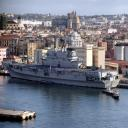Portanaves: (1, 31, 122, 91)
